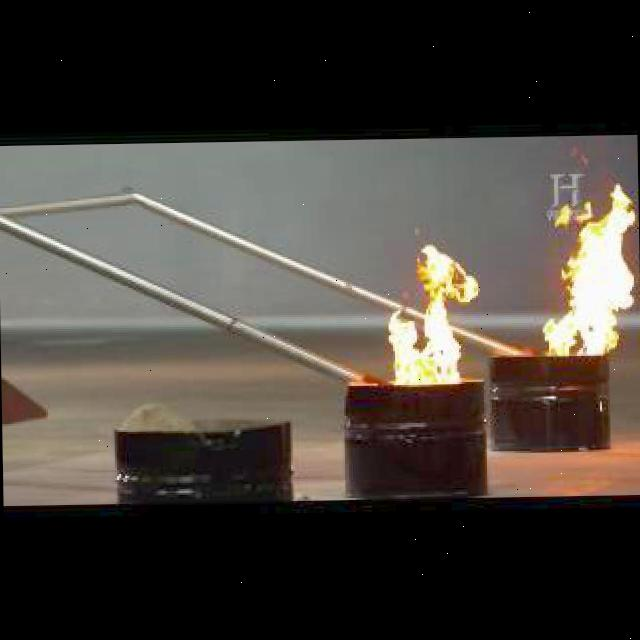fire: (514, 182, 633, 374), (368, 237, 478, 385)
